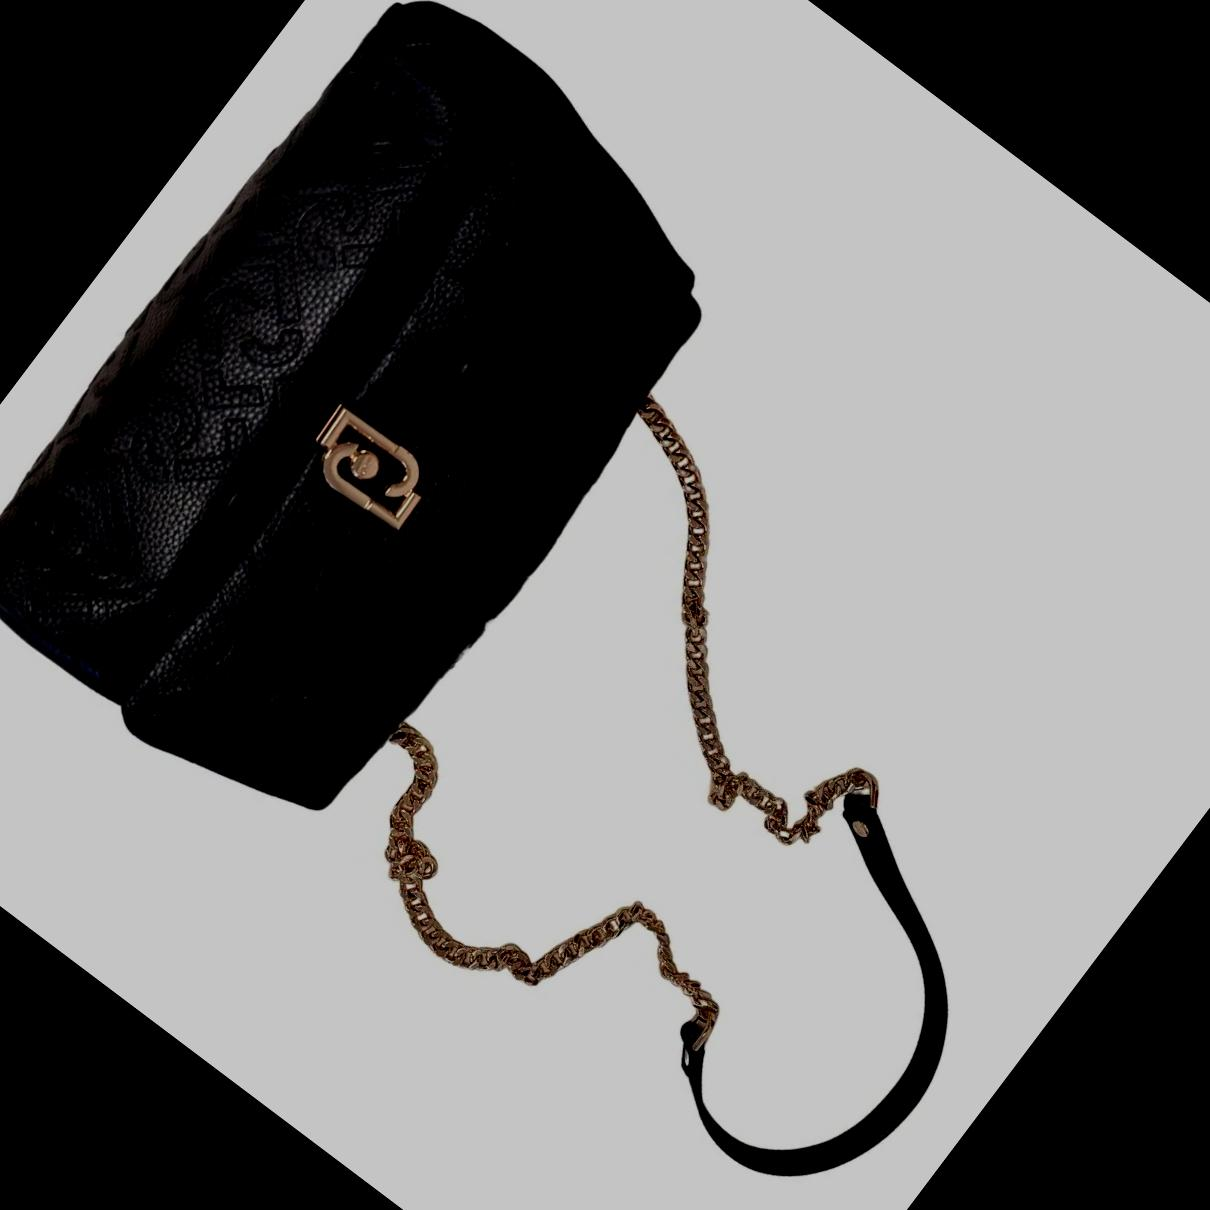LIU-JO: (293, 400, 441, 539)
